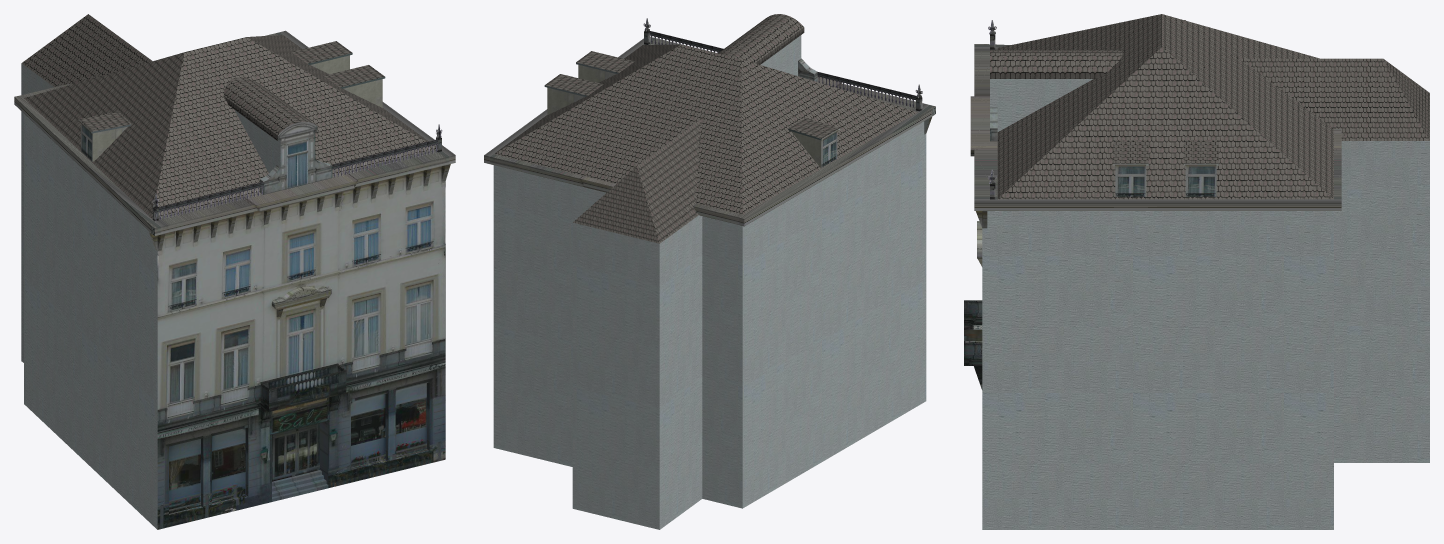
File: house1.fbx
3 views of the same model, side by side, from view 1: azimuth 30°, elevation 25°; view 2: azimuth 150°, elevation 25°; view 3: azimuth 270°, elevation 25° (orthographic). The views are drawn at different scales.
Parts seen in each view (by area): view 1: group_5, group_5.004, group_5.006, group_5.002, group_5.009, group_5.014, group_5.012, group_5.015, group_5.008, group_5.001, group_5.003, group_5.005 (+7 smaller); view 2: group_5.006, group_5.004, group_5, group_5.005, group_5.011, instance_89.005, instance_91.005, instance_92.005, instance_91.002; view 3: group_5.006, group_5.004, group_5, group_5.018, group_5.010, instance_89.003, instance_91.003, instance_89.005, instance_91.005.
Part boxes in pixels (bbox=[...]): group_5: bbox=[14, 30, 455, 529]; group_5.004: bbox=[21, 14, 435, 218]; group_5.006: bbox=[21, 63, 157, 529]; group_5.002: bbox=[260, 121, 332, 194]; group_5.009: bbox=[212, 427, 248, 505]; group_5.014: bbox=[351, 393, 387, 469]; group_5.012: bbox=[169, 438, 203, 515]; group_5.015: bbox=[396, 382, 429, 458]; group_5.008: bbox=[269, 370, 346, 411]; group_5.001: bbox=[260, 394, 340, 428]; group_5.003: bbox=[272, 286, 331, 316]; group_5.005: bbox=[154, 182, 263, 221]; group_5.006: bbox=[493, 121, 926, 529]; group_5.004: bbox=[494, 14, 917, 243]; group_5: bbox=[484, 37, 935, 226]; group_5.005: bbox=[817, 72, 916, 107]; group_5.011: bbox=[761, 35, 801, 75]; instance_89.005: bbox=[576, 51, 634, 72]; instance_91.005: bbox=[545, 74, 603, 95]; instance_92.005: bbox=[787, 118, 839, 138]; instance_91.002: bbox=[547, 87, 584, 114]; group_5.006: bbox=[982, 141, 1429, 529]; group_5.004: bbox=[990, 14, 1429, 199]; group_5: bbox=[970, 44, 1341, 210]; group_5.018: bbox=[990, 79, 1092, 131]; group_5.010: bbox=[964, 300, 982, 365]; instance_89.003: bbox=[1115, 165, 1146, 196]; instance_91.003: bbox=[1185, 165, 1216, 196]; instance_89.005: bbox=[1113, 140, 1148, 163]; instance_91.005: bbox=[1183, 140, 1218, 163].
Bounding box in the file's own units: 1448 × 1795 × 1796.
